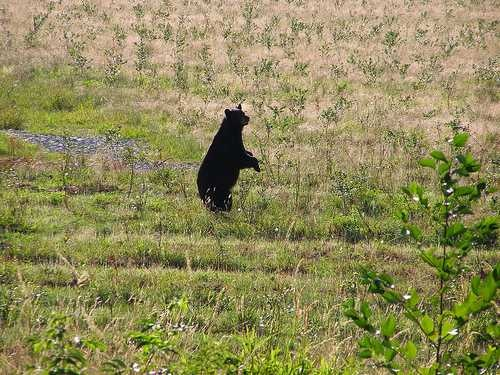bear: (167, 100, 295, 228)
